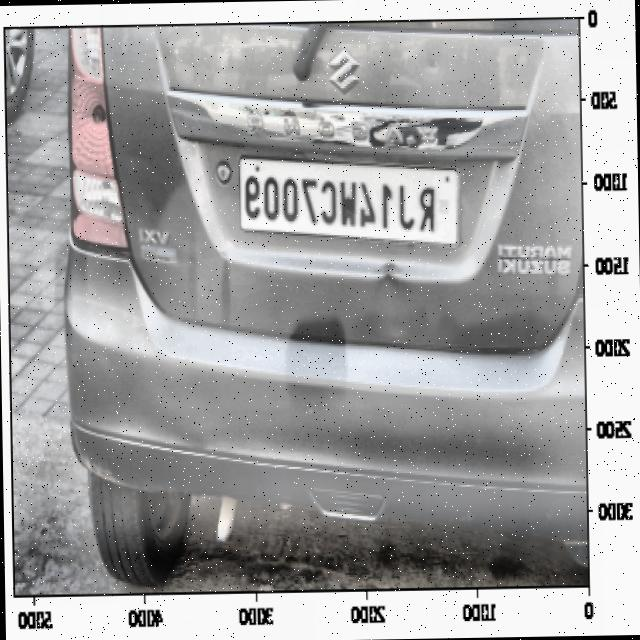license_plate: (239, 164, 448, 238)
